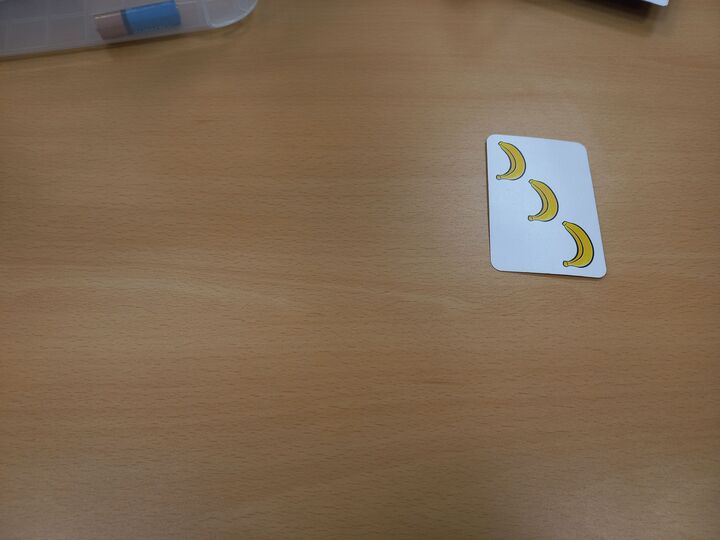banana3: (483, 131, 610, 280)
